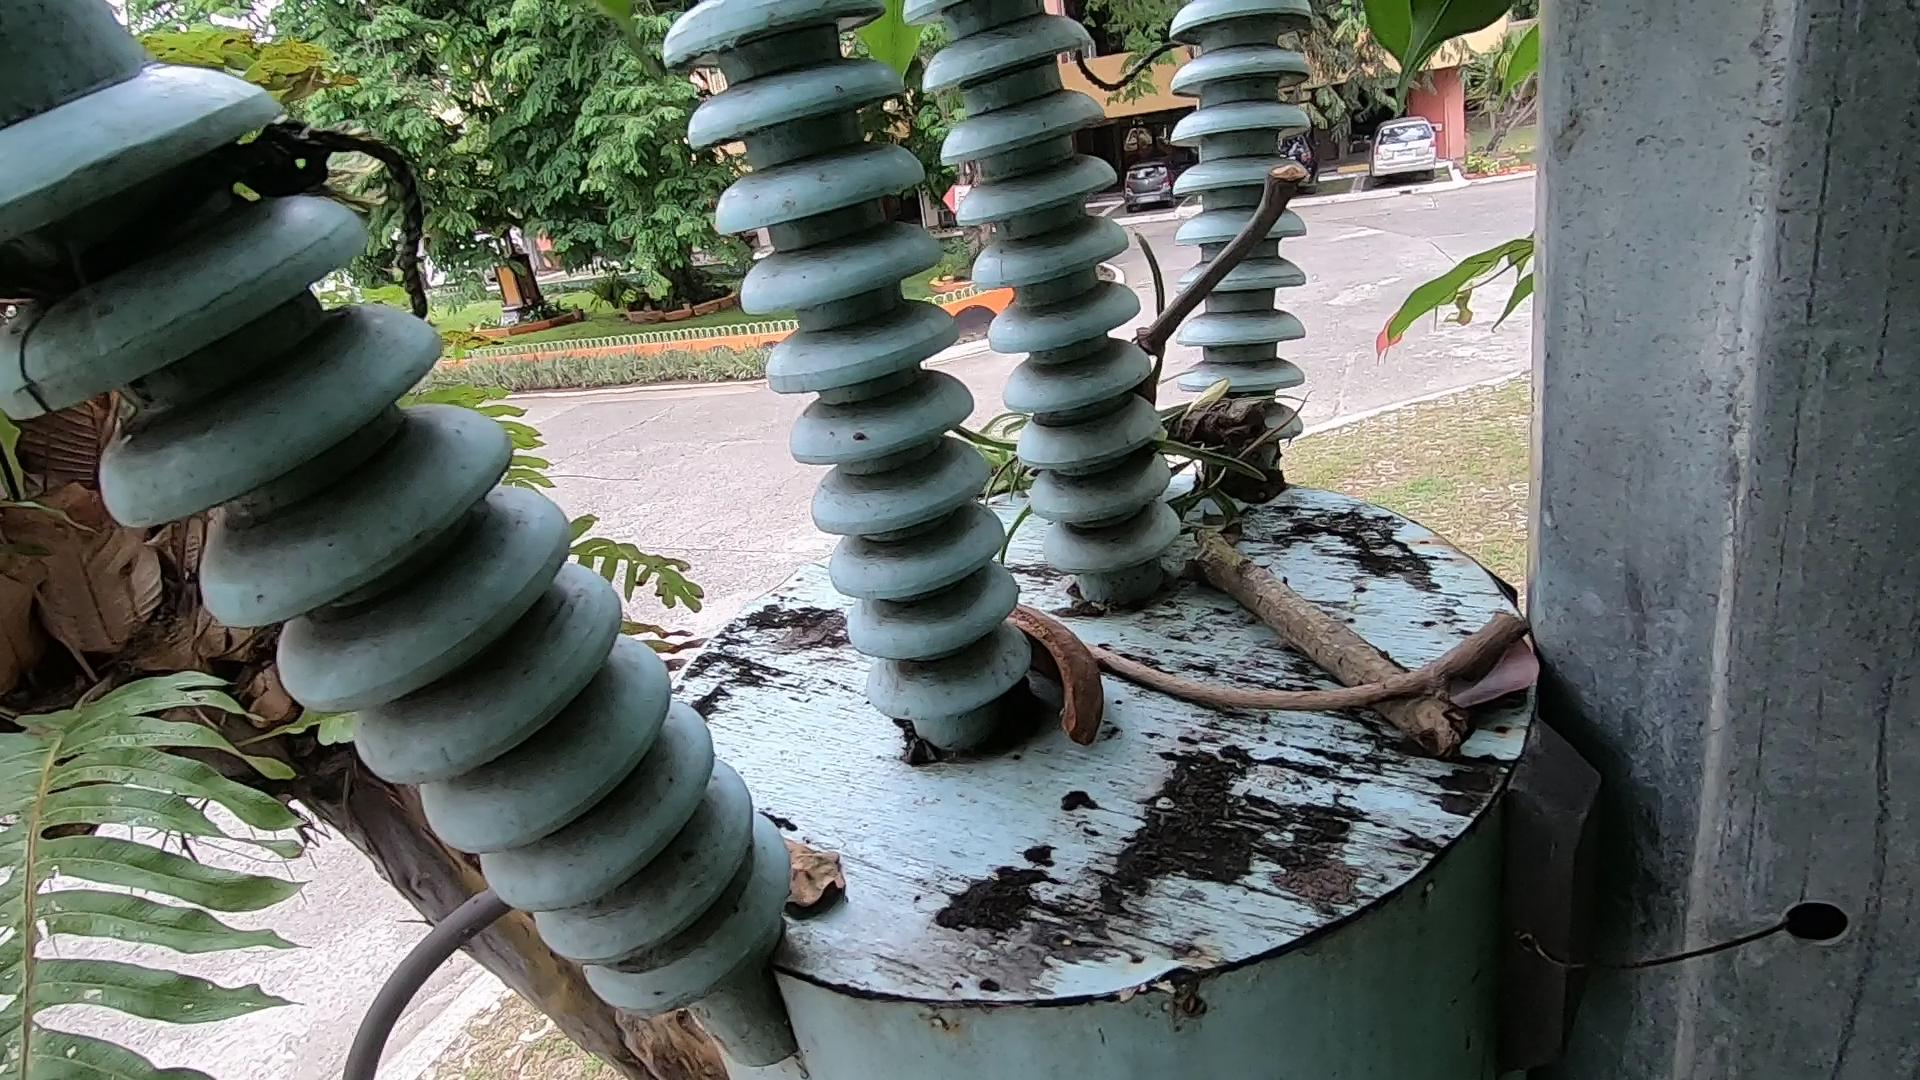branch with leaves: (1098, 323, 1739, 794)
leaf: (758, 760, 942, 948), (1429, 593, 1572, 753)
mahogany fruit: (1001, 576, 1149, 828)
tree branch: (1104, 103, 1333, 401), (1044, 588, 1501, 705)
